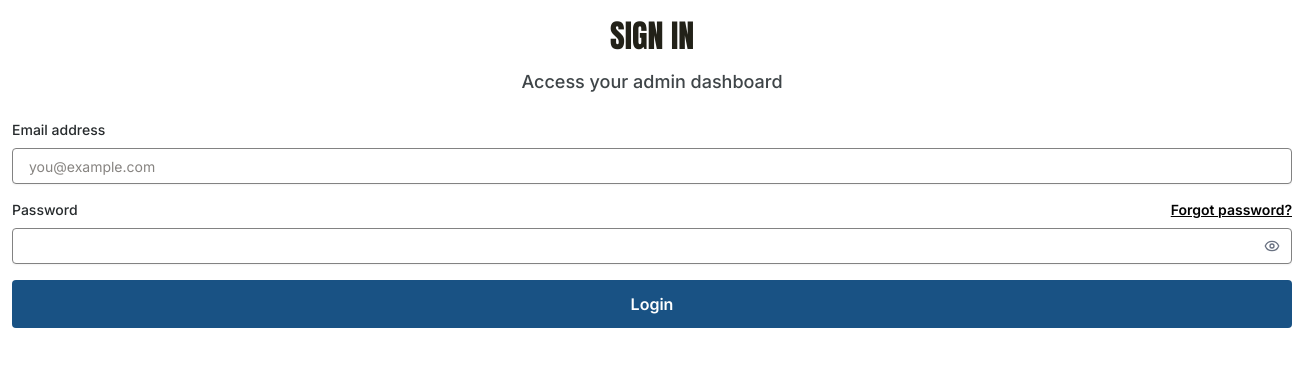
Test: LoginFormState › shows error when password is empty
In the field labelled "Email address": coordinates (652, 166) [12,148,1292,184], type "admin@example.com"
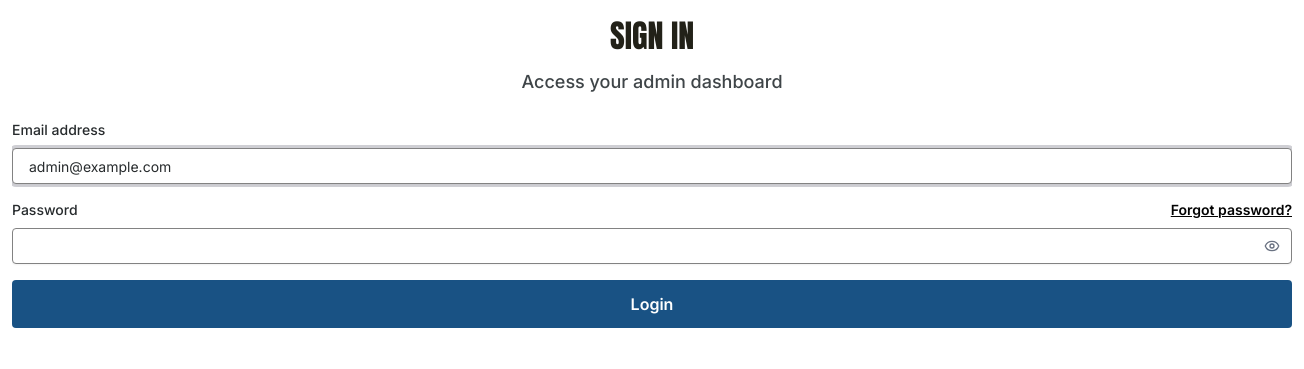
Click the button "Login": coordinates (652, 304) [12,280,1292,328]
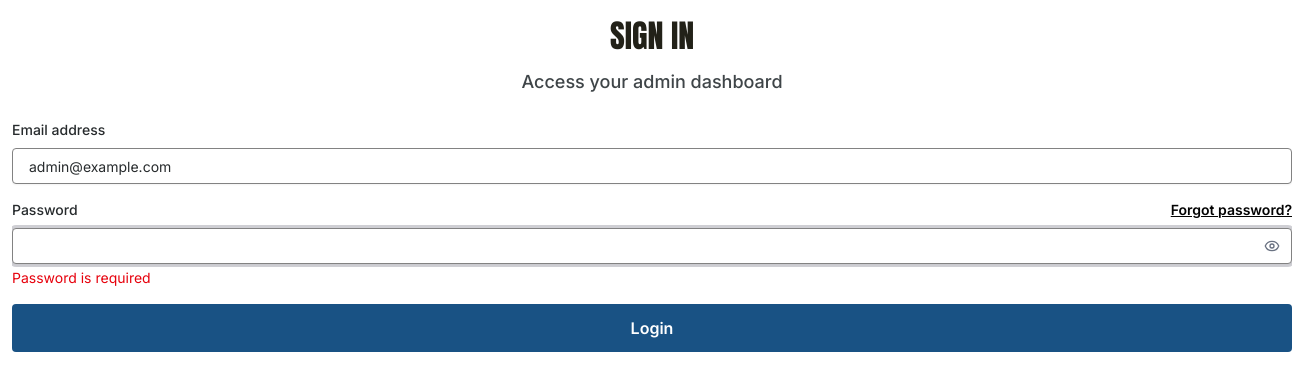
Now the text "Password is required" is shown, box [12,269,151,286]
